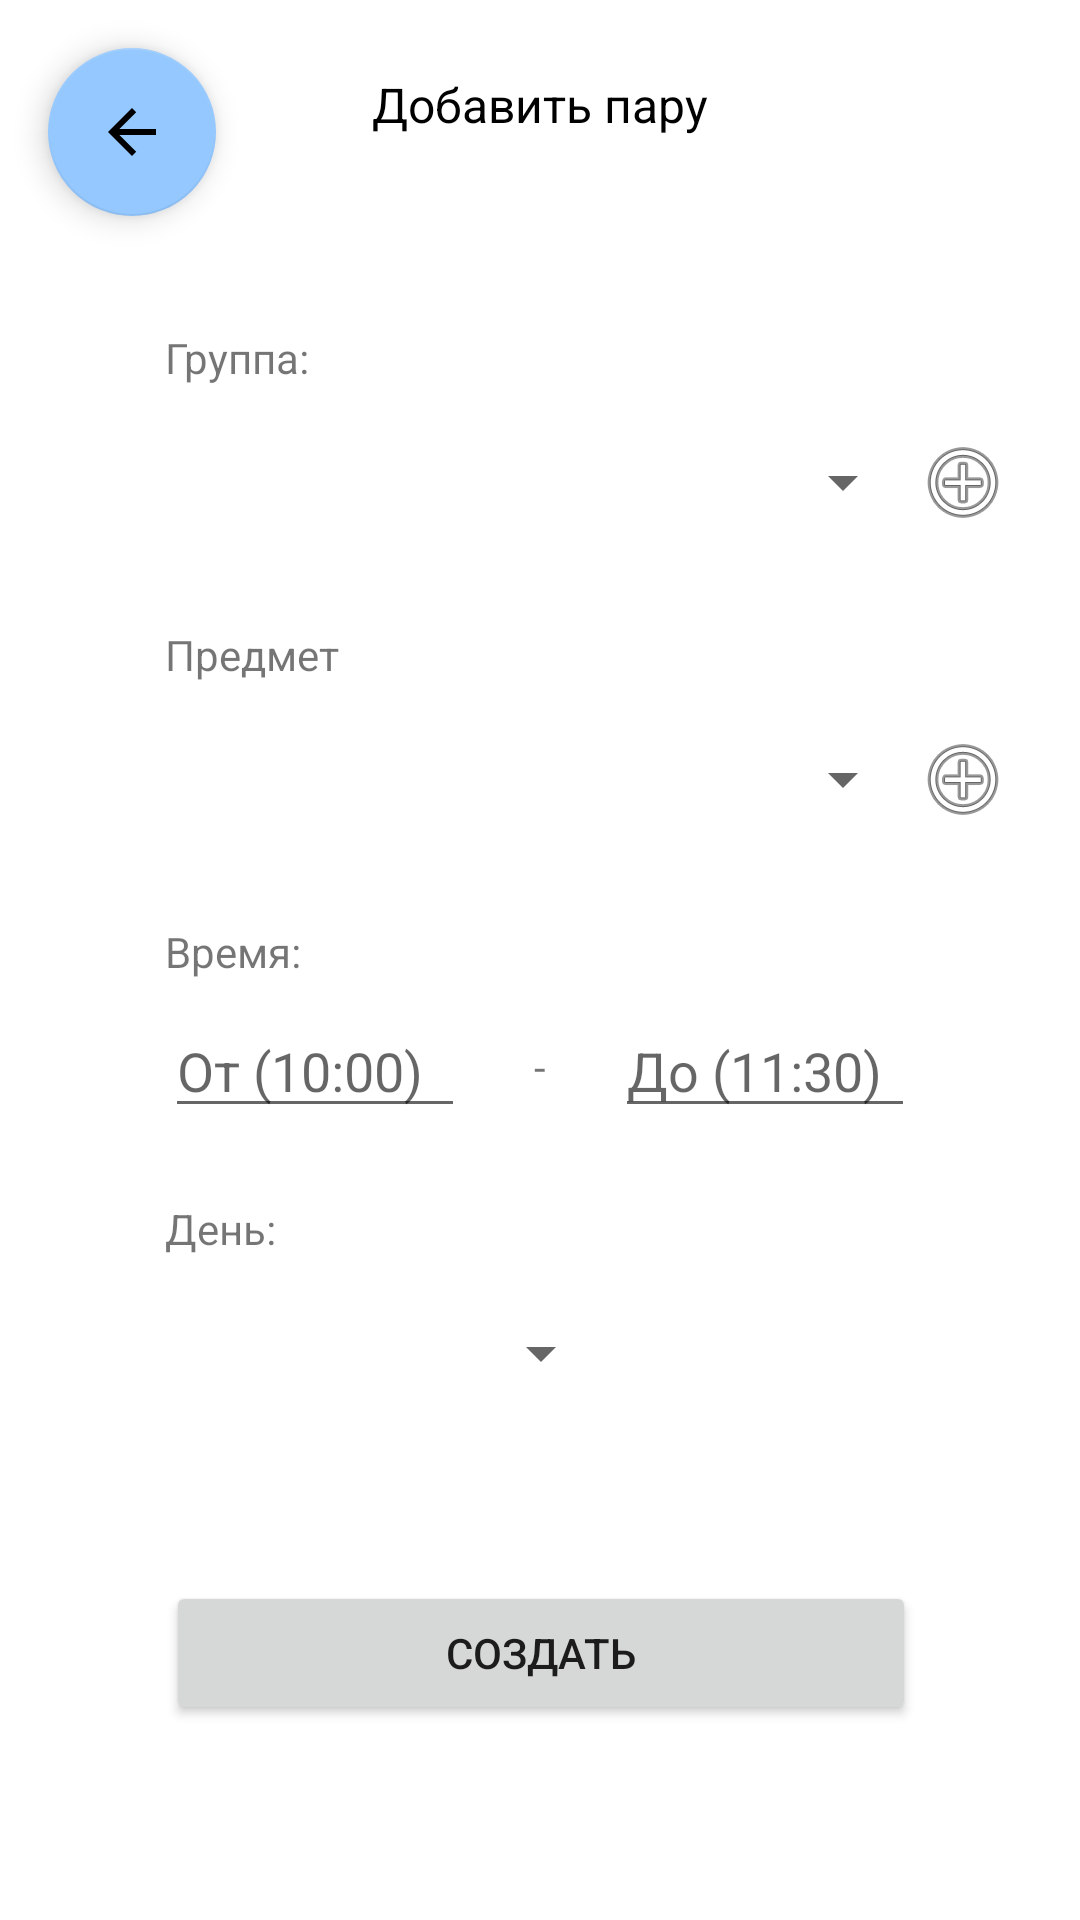

Screen size 1080 × 1920. Icon name, then its box in pixels as (x1, y1, x2, y2):
add: (927, 447, 999, 518), (927, 744, 999, 815)
